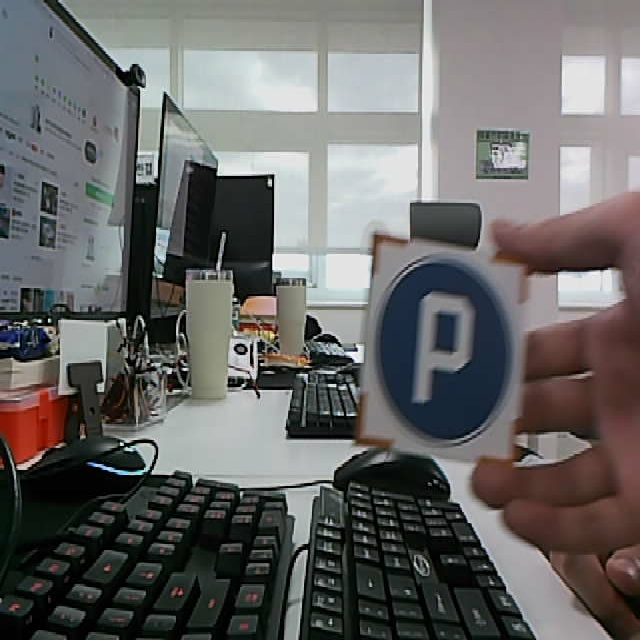parking: (355, 232, 530, 470)
